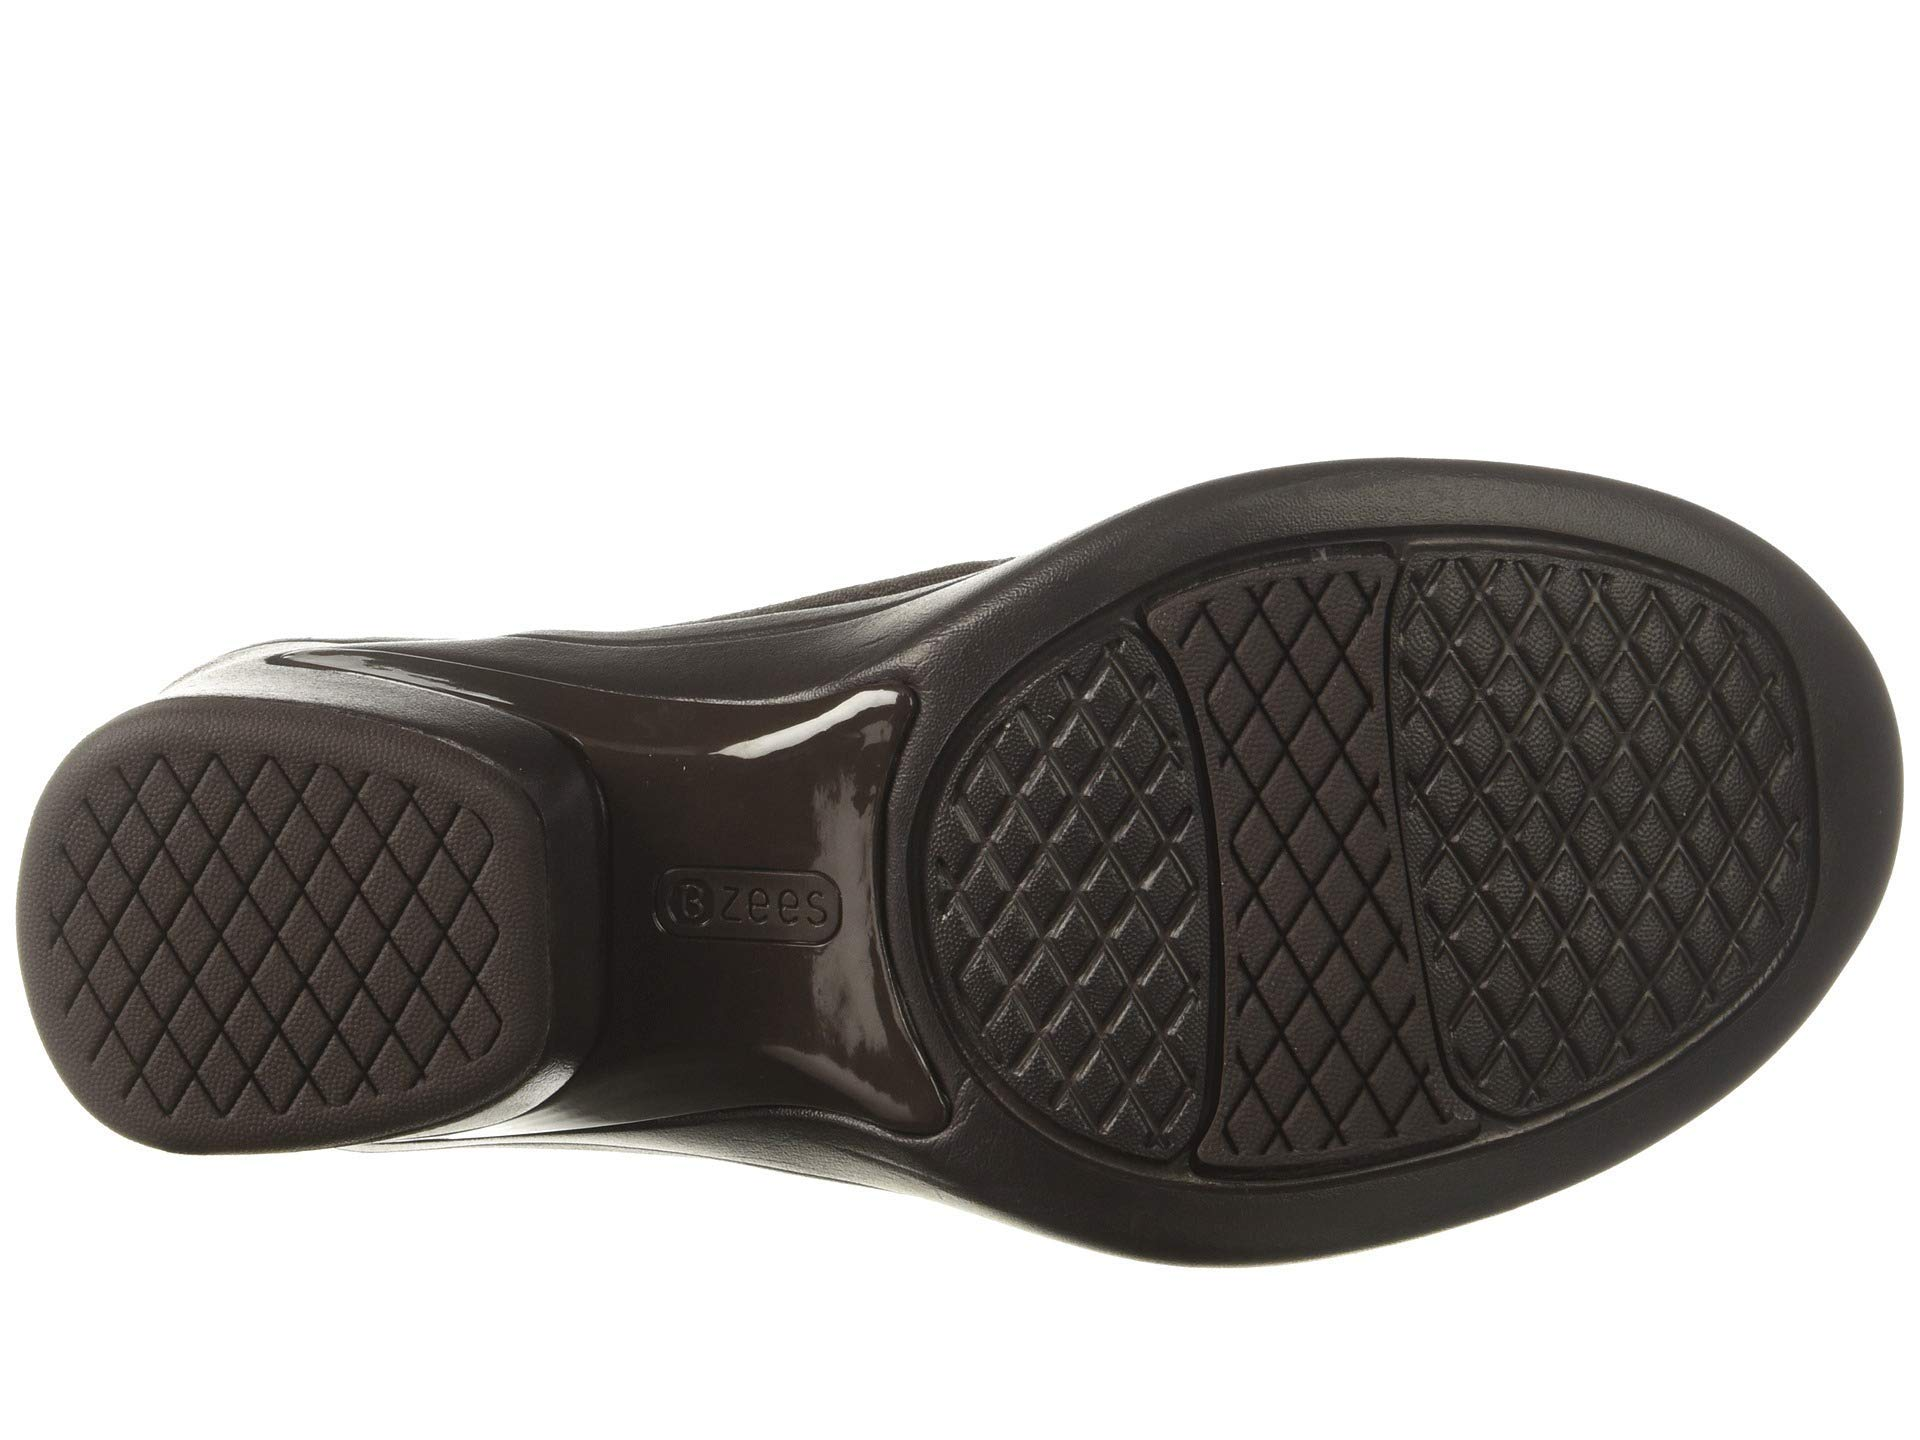quad: (1460, 585, 1770, 1048), (92, 790, 475, 1082), (1202, 587, 1388, 1125), (996, 669, 1173, 1119)
